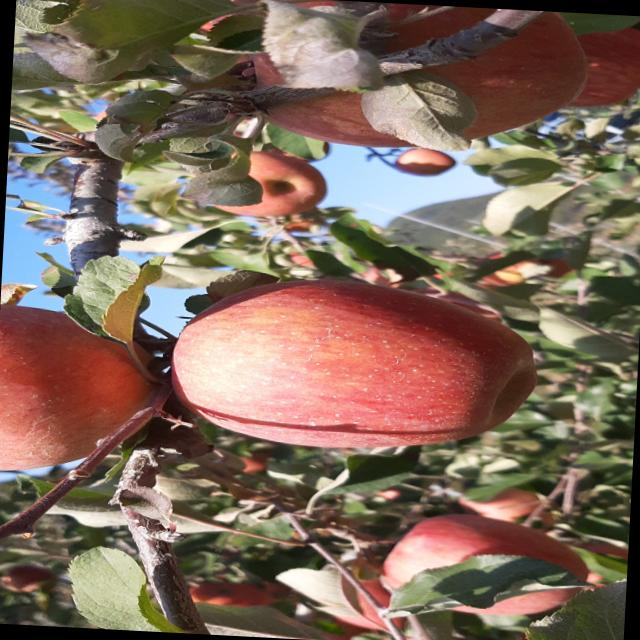fresh: (153, 271, 539, 471)
